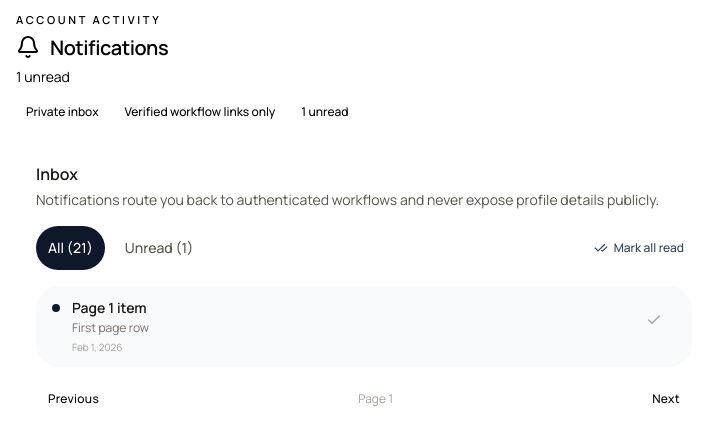
Test: NotificationsPageClient › paginates forward and backward
This screenshot has width=709, height=432.
Expected: the text "Page 1 item" is shown, x1=72 y1=298 x2=147 y2=317
What coordinates should you click on to do the following:
click the button "Next"
I would click on:
 (666, 399)
Its box is x1=640 y1=383 x2=692 y2=415.
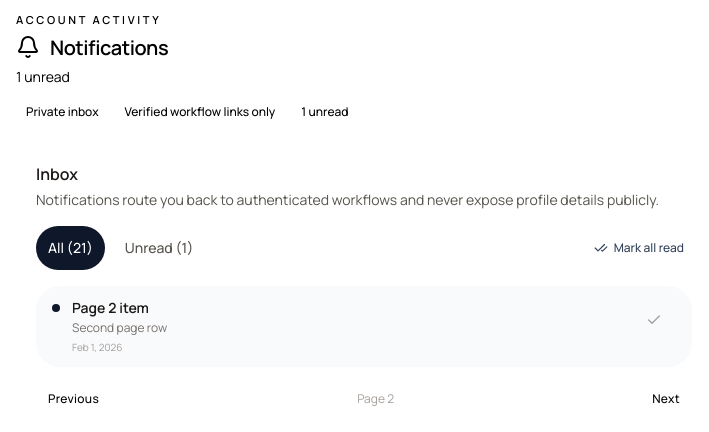
Now the text "Page 2 item" is shown, box x1=72 y1=298 x2=149 y2=317
Now the text "Page 2" is shown, box x1=357 y1=391 x2=394 y2=407
What coordinates should you click on to do the following:
click the button "Previous"
I would click on:
 (74, 399)
Its box is x1=36 y1=383 x2=111 y2=415.
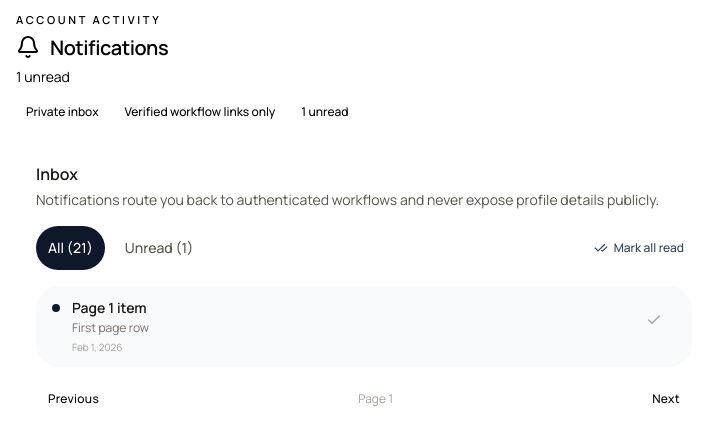
Now the text "Page 1 item" is shown, box x1=72 y1=298 x2=147 y2=317
Now the text "Page 1" is shown, box x1=358 y1=391 x2=393 y2=407
